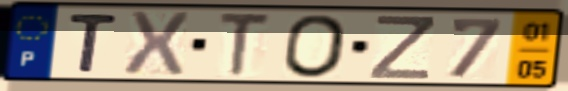7: (446, 15, 505, 82)
O: (282, 12, 351, 80)
T: (217, 11, 274, 80), (66, 11, 122, 75)
X: (120, 9, 193, 78)
Z: (367, 14, 437, 82)
